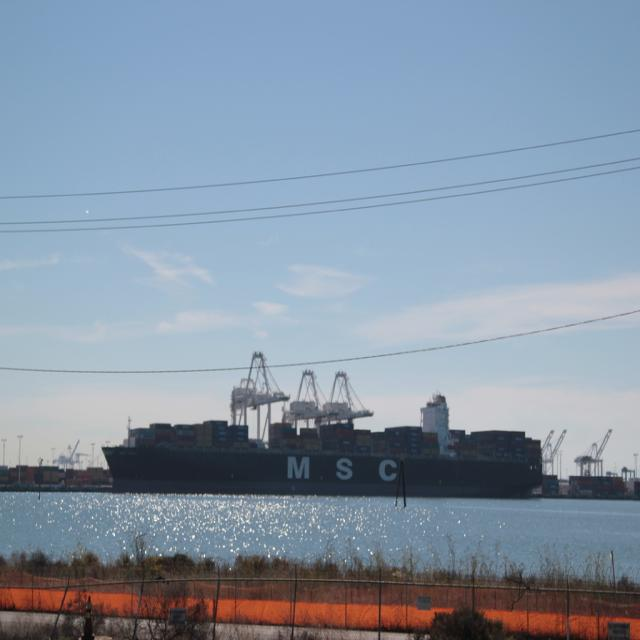Boat: (78, 338, 552, 494)
